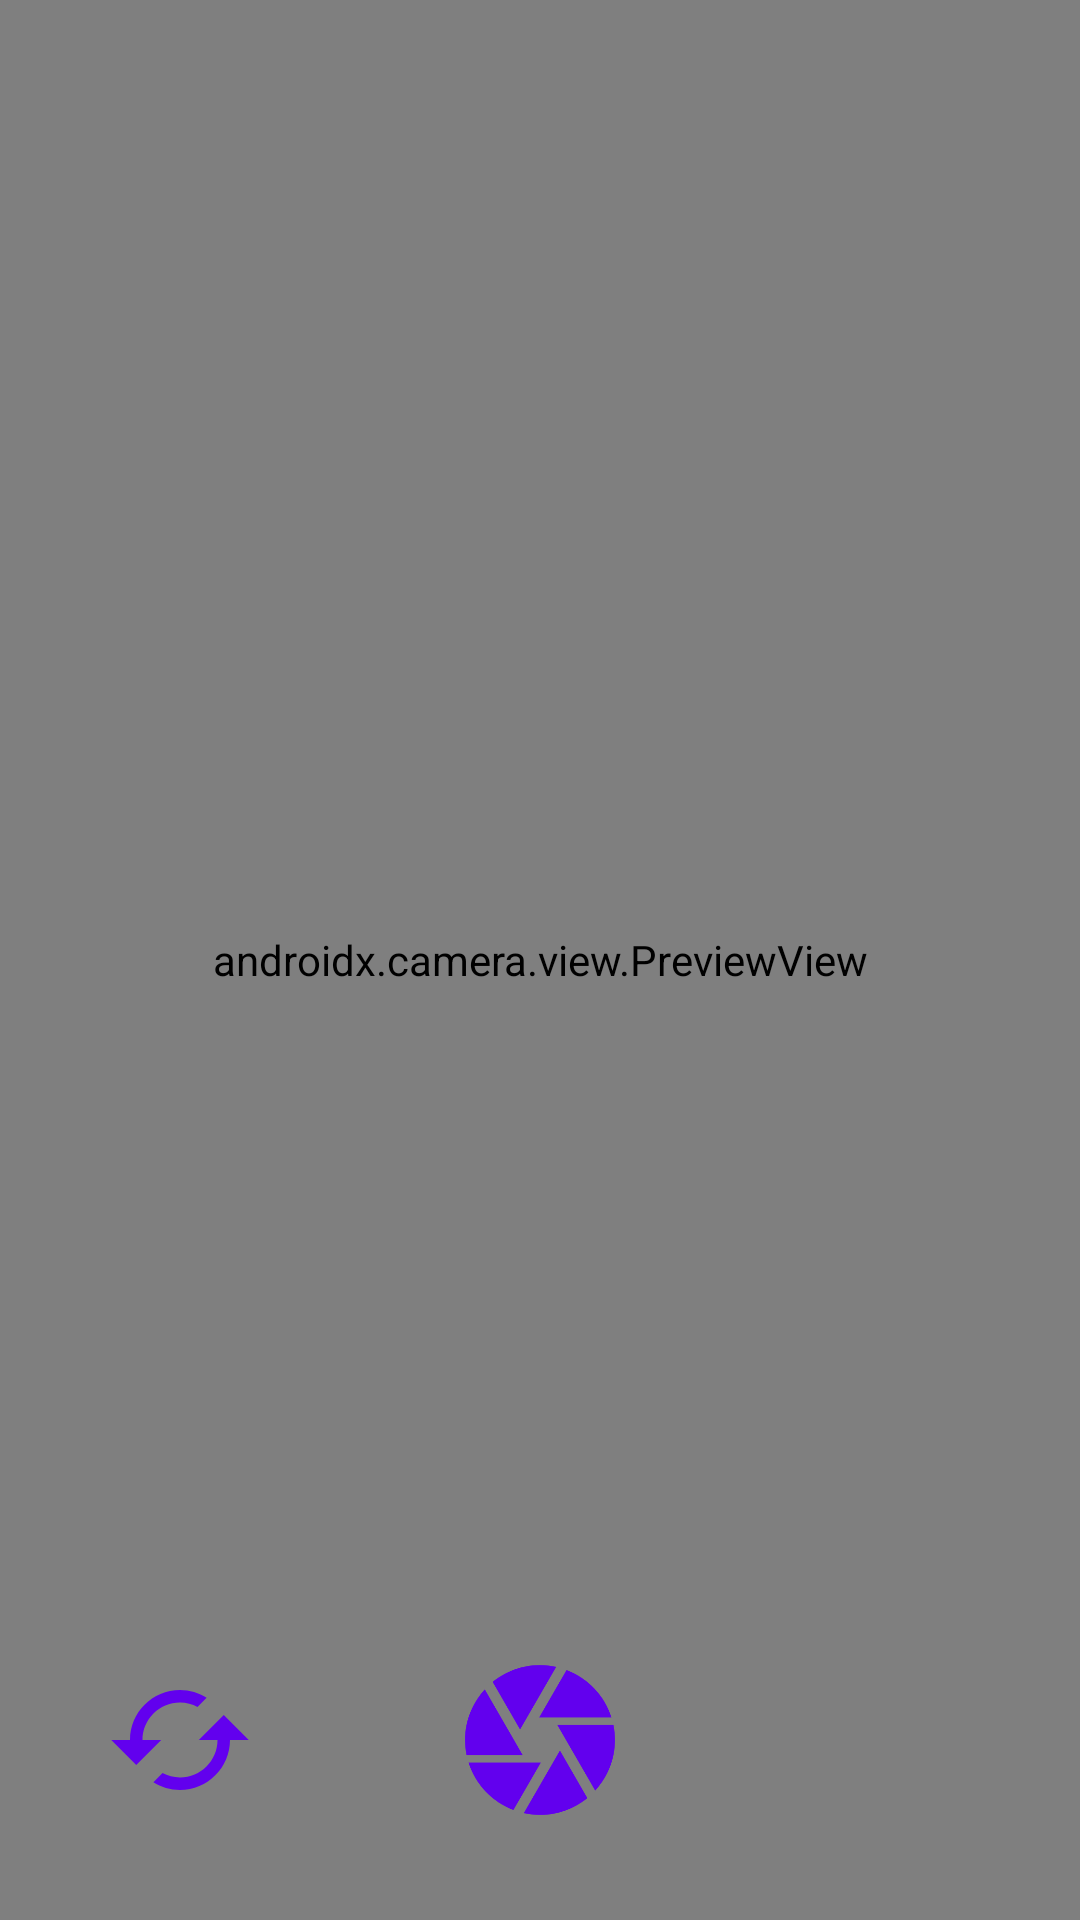

Icon bounding boxes for this 1080x1920 phone screenshot, format (x1, y1, x2, y2):
rotate: (111, 1690, 249, 1790)
